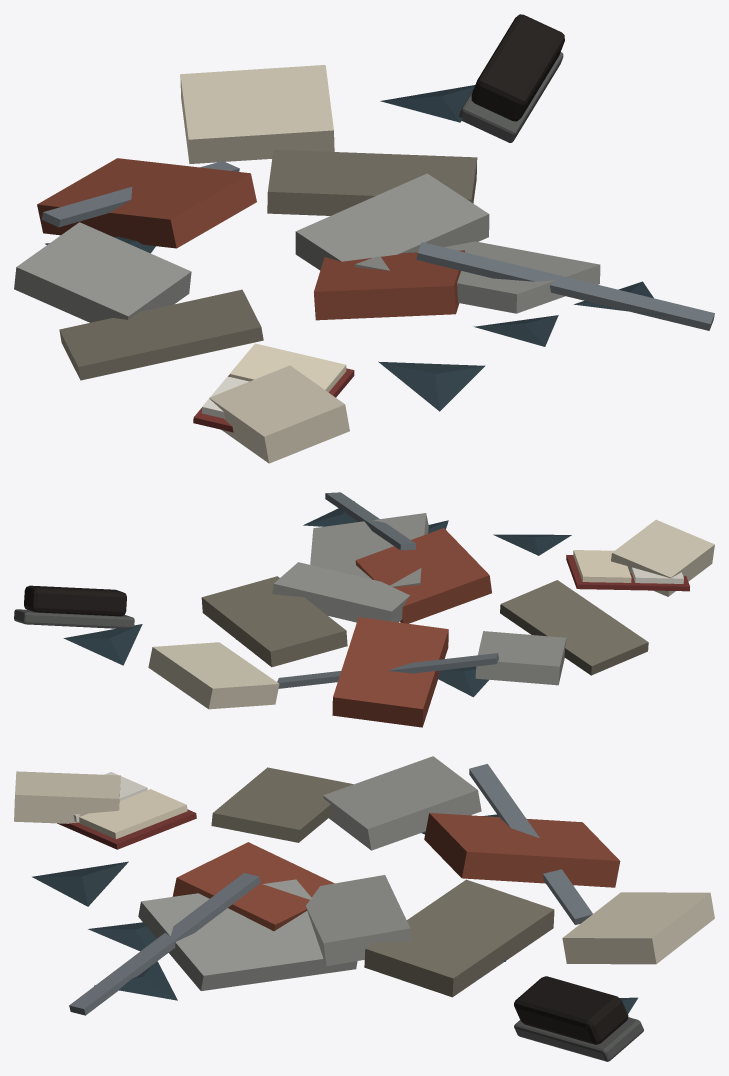
File: lobby_debris.glb
3 views of the same model, one above another, from view 1: azimuth 30°, elevation 25°; view 2: azimuth 150°, elevation 25°; view 3: azimuth 270°, elevation 25° (orthographic). The views are drawn at different scales.
Visible parts, largest first — view 1: lobby_debris; view 2: lobby_debris; view 3: lobby_debris.
Part boxes in pixels (box(x1,y1,x2,y2)): lobby_debris: box(14, 14, 714, 463); lobby_debris: box(14, 492, 714, 727); lobby_debris: box(14, 756, 714, 1061).
Size of the model in its own units: 1.41 by 0.1623 by 1.4.
Materials: 2 (2 with a texture image).
